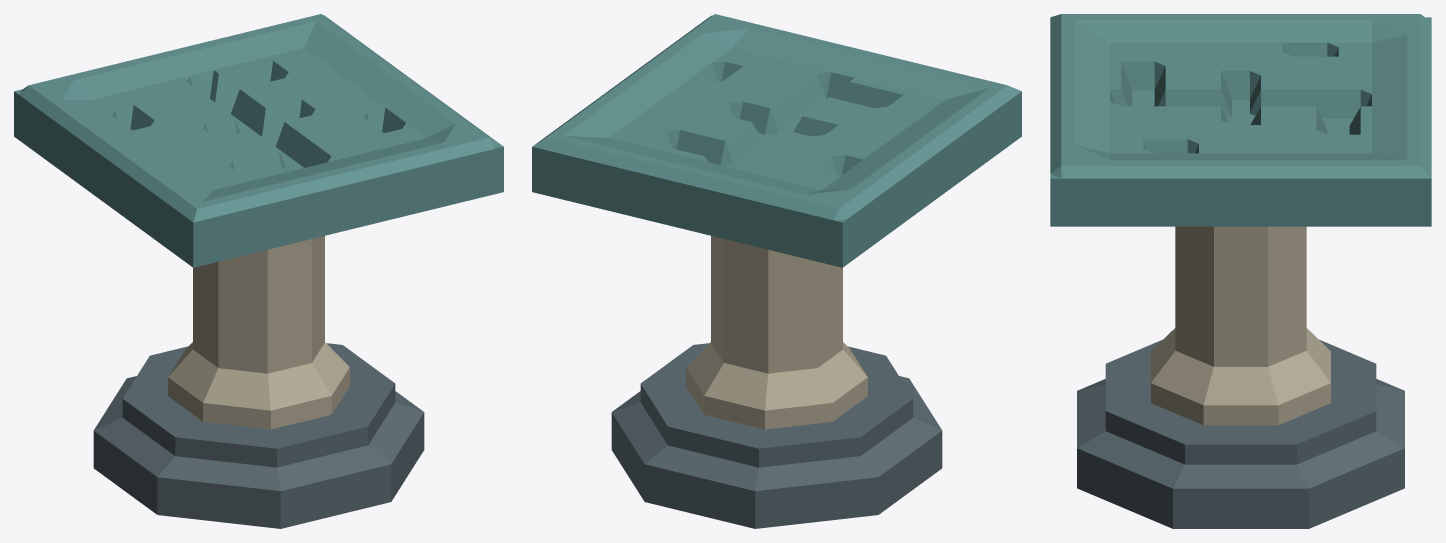
The picture shows the model from 3 angles, left to right: view 1: azimuth 30°, elevation 25°; view 2: azimuth 150°, elevation 25°; view 3: azimuth 270°, elevation 25°; orthographic projection. The views are drawn at different scales.
Parts seen in each view (by area): view 1: ContinuousDeepIncisedRuneSlab, OctagonalSteppedGroundPlinth, TaperWaistStoneShaft; view 2: ContinuousDeepIncisedRuneSlab, OctagonalSteppedGroundPlinth, TaperWaistStoneShaft; view 3: ContinuousDeepIncisedRuneSlab, OctagonalSteppedGroundPlinth, TaperWaistStoneShaft.
Part boxes in pixels (<box>): ContinuousDeepIncisedRuneSlab: <box>14,14,503,267</box>; OctagonalSteppedGroundPlinth: <box>93,343,424,528</box>; TaperWaistStoneShaft: <box>168,236,349,429</box>; ContinuousDeepIncisedRuneSlab: <box>532,14,1021,267</box>; OctagonalSteppedGroundPlinth: <box>611,343,942,528</box>; TaperWaistStoneShaft: <box>686,236,867,429</box>; ContinuousDeepIncisedRuneSlab: <box>1050,14,1431,226</box>; OctagonalSteppedGroundPlinth: <box>1077,339,1404,528</box>; TaperWaistStoneShaft: <box>1151,226,1330,425</box>.
Size of the model in its own units: 0.86 by 0.92 by 0.86.
